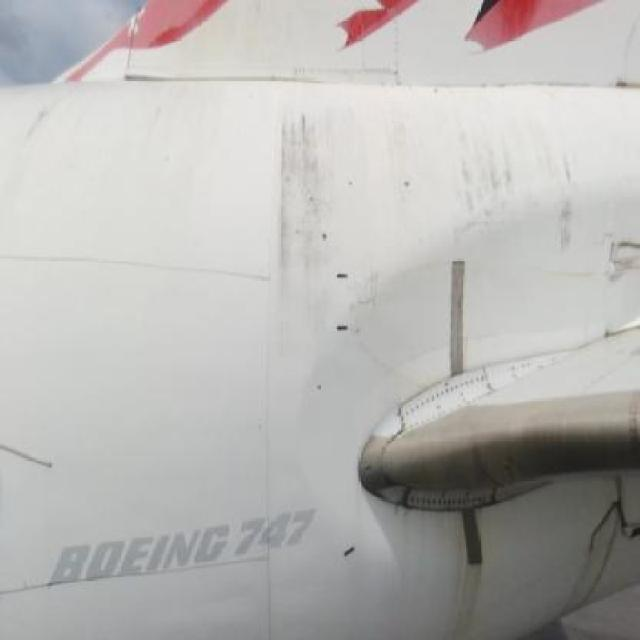Missing-Rivet: (402, 362, 503, 426), (404, 479, 508, 519)
Rust: (275, 86, 359, 340), (457, 113, 577, 276), (375, 82, 460, 181), (564, 485, 622, 618), (439, 510, 493, 638)
Scartch: (345, 249, 404, 346), (591, 219, 640, 298)
